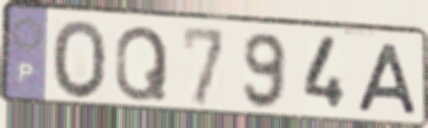4: (300, 32, 352, 117)
7: (180, 24, 227, 110)
9: (241, 31, 290, 112)
A: (354, 41, 421, 118)
O: (50, 18, 109, 103)
Q: (112, 23, 171, 103)
